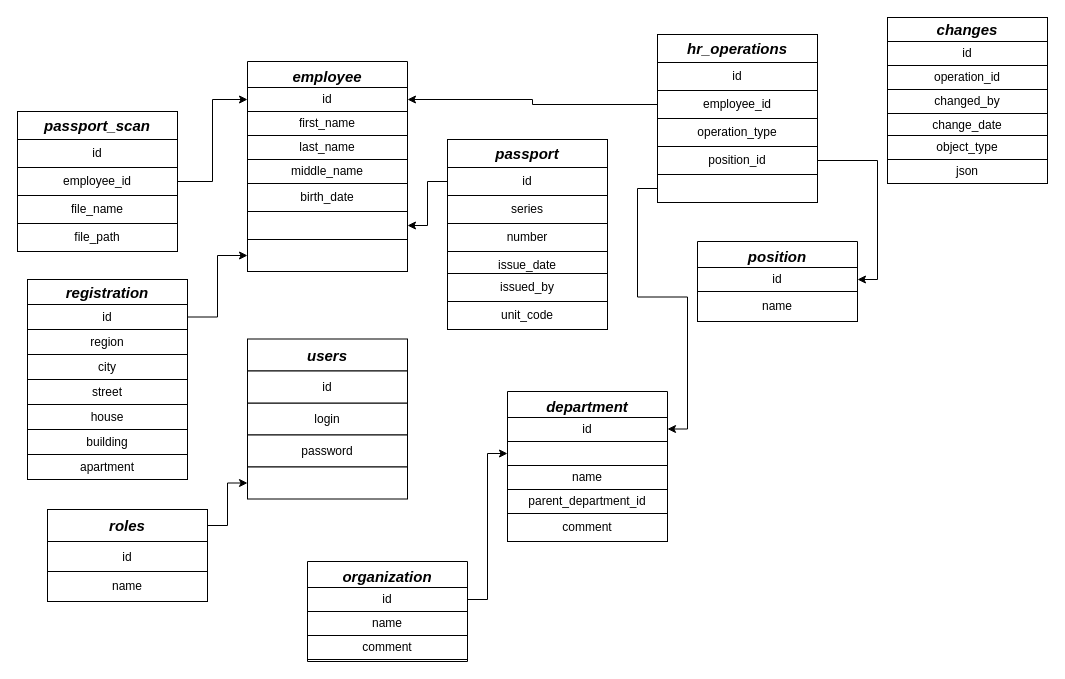
The diagram is 1065 pixels wide and 679 high, and some of its shapes have lost their labels. The centre of each missing label's shape, as x and y in pixels:
"department_id" goes at pixel 737 188.
"organization_id" goes at pixel 587 453.
"passport_id" goes at pixel 327 225.
"registration_id" goes at pixel 327 255.
"role_id" goes at pixel 327 482.
